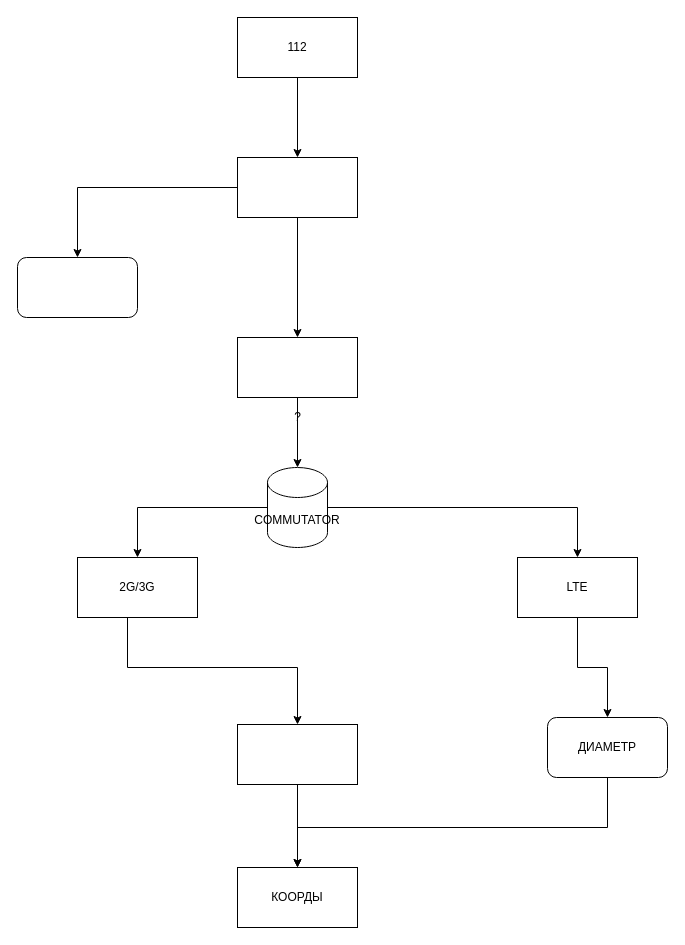
Some shapes in this 685 by 945 pixel diagram are drawn without their labels. Each missing label, with the centre of its shape:
IMSI, VLR: the point at 297,367
НОМЕР: the point at 297,187
ЯЧЕЙКА: the point at 297,754
